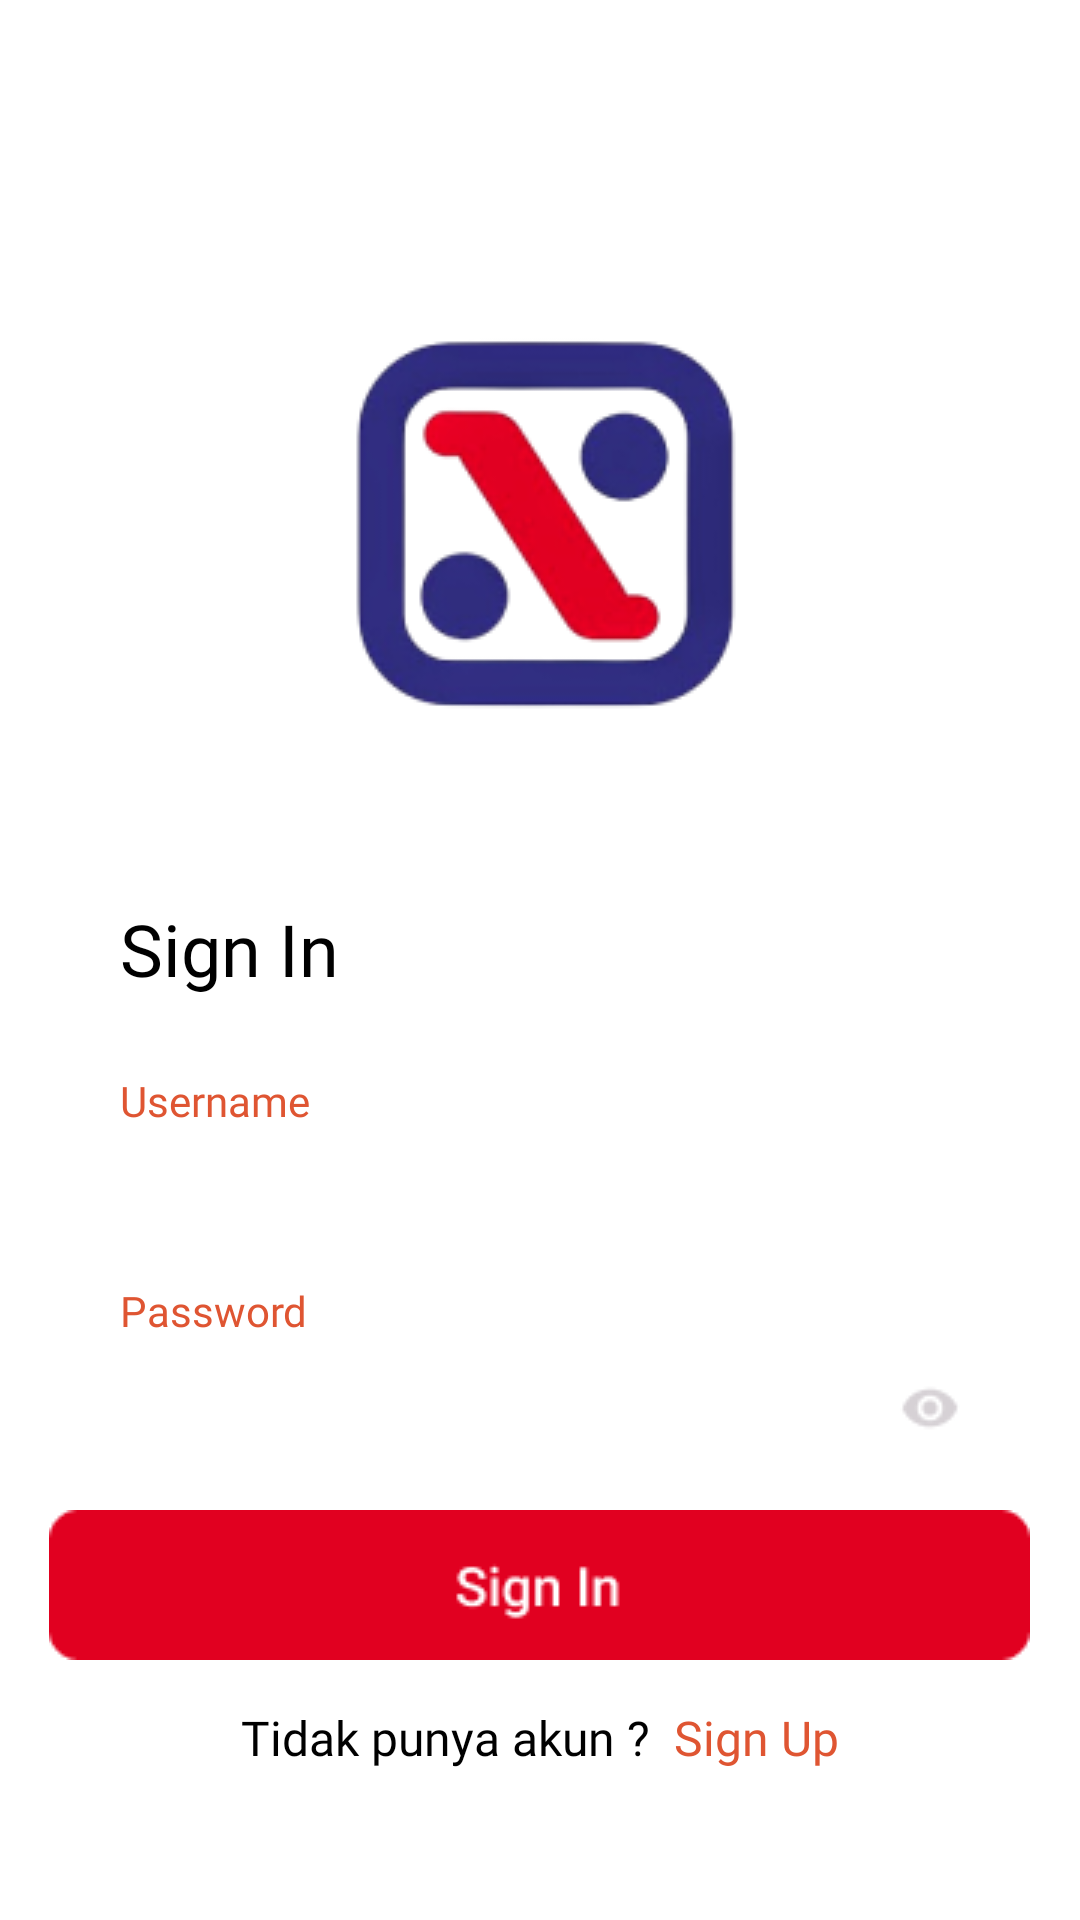

Screen size 1080 x 1920. Icon name, then its center in pixels as point (x, y):
visibility: point (930, 1408)
